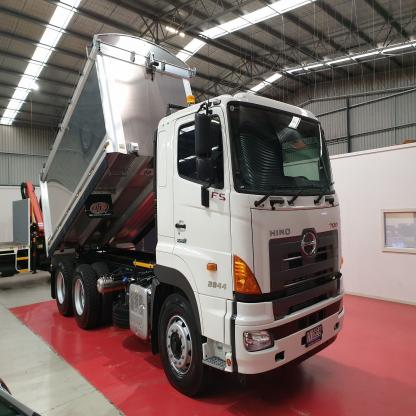dump_truck: (36, 32, 349, 403)
